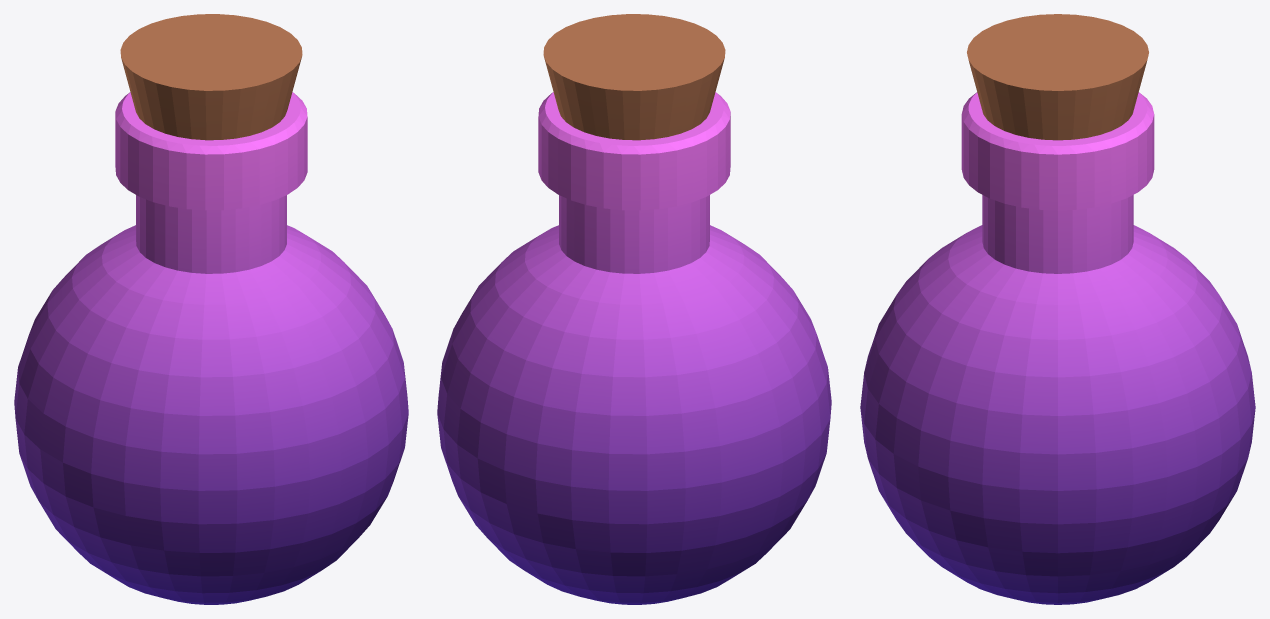
File: Potion_poison.fbx
3 views of the same model, side by side, from view 1: azimuth 30°, elevation 25°; view 2: azimuth 150°, elevation 25°; view 3: azimuth 270°, elevation 25° (orthographic).
Parts seen in each view (by area): view 1: Sphere; view 2: Sphere; view 3: Sphere.
Part boxes in pixels (x1,y1,x2,y2): Sphere: [14, 14, 408, 604]; Sphere: [437, 14, 831, 604]; Sphere: [860, 14, 1255, 604].
Size of the model in its own units: 200 by 298 by 200.
Materials: 1 (1 with a texture image).
